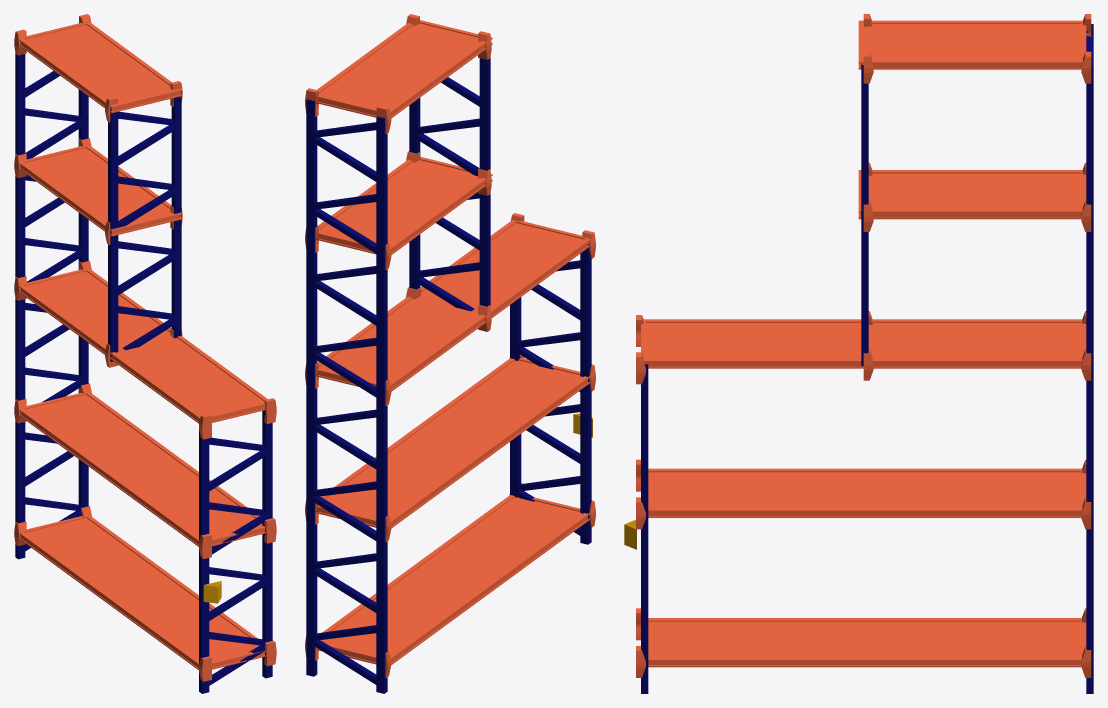
File: WareHouse-Rack-Low-2.glb
The picture shows the model from 3 angles, left to right: view 1: azimuth 30°, elevation 25°; view 2: azimuth 150°, elevation 25°; view 3: azimuth 270°, elevation 25°; orthographic projection. The views are drawn at different scales.
Visible parts, largest first — view 1: Plane.838, RackSide, ShelfHolder.001; view 2: Plane.838, RackSide, ShelfHolder.001; view 3: Plane.838, RackSide, ShelfHolder.001.
Part boxes in pixels (x1=…): Plane.838: x1=19, y1=22, x2=267, y2=669; RackSide: x1=15, y1=54, x2=272, y2=693; ShelfHolder.001: x1=14, y1=14, x2=276, y2=681; Plane.838: x1=317, y1=20, x2=590, y2=664; RackSide: x1=306, y1=58, x2=591, y2=693; ShelfHolder.001: x1=305, y1=14, x2=595, y2=677; Plane.838: x1=641, y1=20, x2=1086, y2=667; RackSide: x1=641, y1=24, x2=1093, y2=693; ShelfHolder.001: x1=636, y1=14, x2=1091, y2=677.
Bounding box in the file's own units: 2.11 × 14.22 × 9.49.
